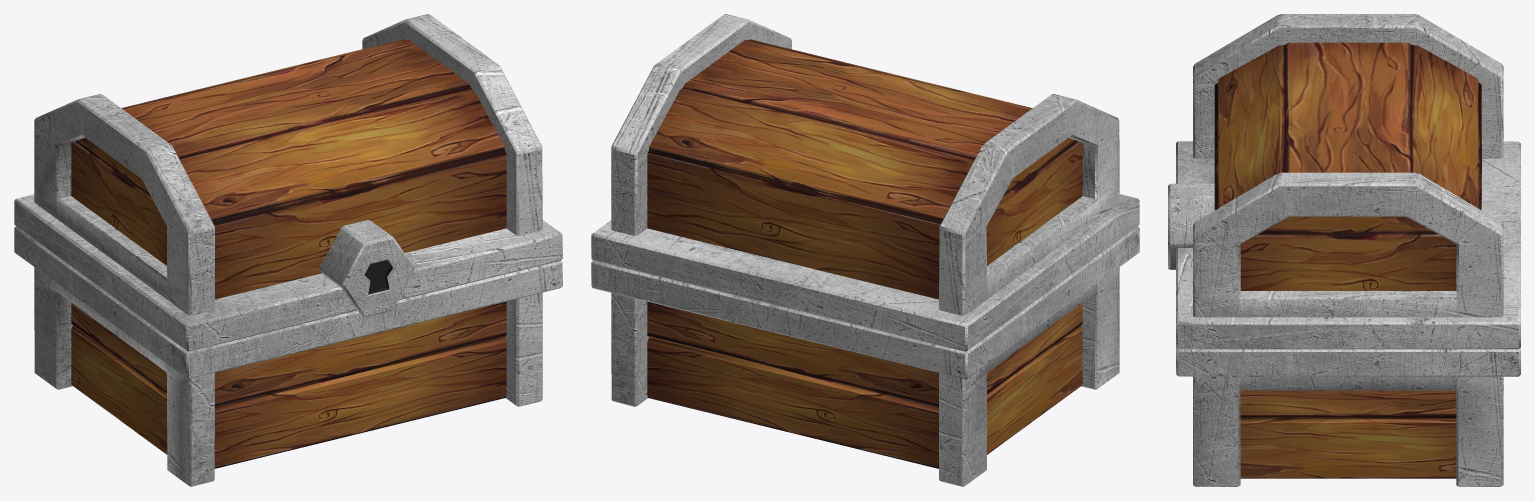
Rendered from chest-anim.fbx.
The picture shows the model from 3 angles, left to right: view 1: azimuth 30°, elevation 25°; view 2: azimuth 150°, elevation 25°; view 3: azimuth 270°, elevation 25°; orthographic projection.
Visible parts, largest first — view 1: Cup_Wood, Cup_Metal, Body_Wood, Body_Metal, Lock; view 2: Cup_Wood, Cup_Metal, Body_Wood, Body_Metal; view 3: Cup_Metal, Cup_Wood, Body_Metal, Body_Wood, Lock.
Boxes of the visible parts, x1,y1,x2,y2 form: Cup_Wood: (71, 39, 506, 299); Cup_Metal: (14, 14, 562, 351); Body_Wood: (71, 301, 506, 468); Body_Metal: (14, 226, 562, 486); Lock: (320, 220, 413, 316); Cup_Wood: (647, 39, 1082, 299); Cup_Metal: (591, 14, 1139, 351); Body_Wood: (647, 301, 1082, 468); Body_Metal: (591, 226, 1139, 486); Cup_Metal: (1176, 14, 1520, 349); Cup_Wood: (1214, 42, 1481, 290); Body_Metal: (1176, 347, 1520, 486); Body_Wood: (1240, 390, 1456, 478); Lock: (1168, 183, 1214, 269).
Size of what is drawn, in the model's own units: 100 by 77.69 by 81.79.
Materials: 4 (3 with a texture image).
